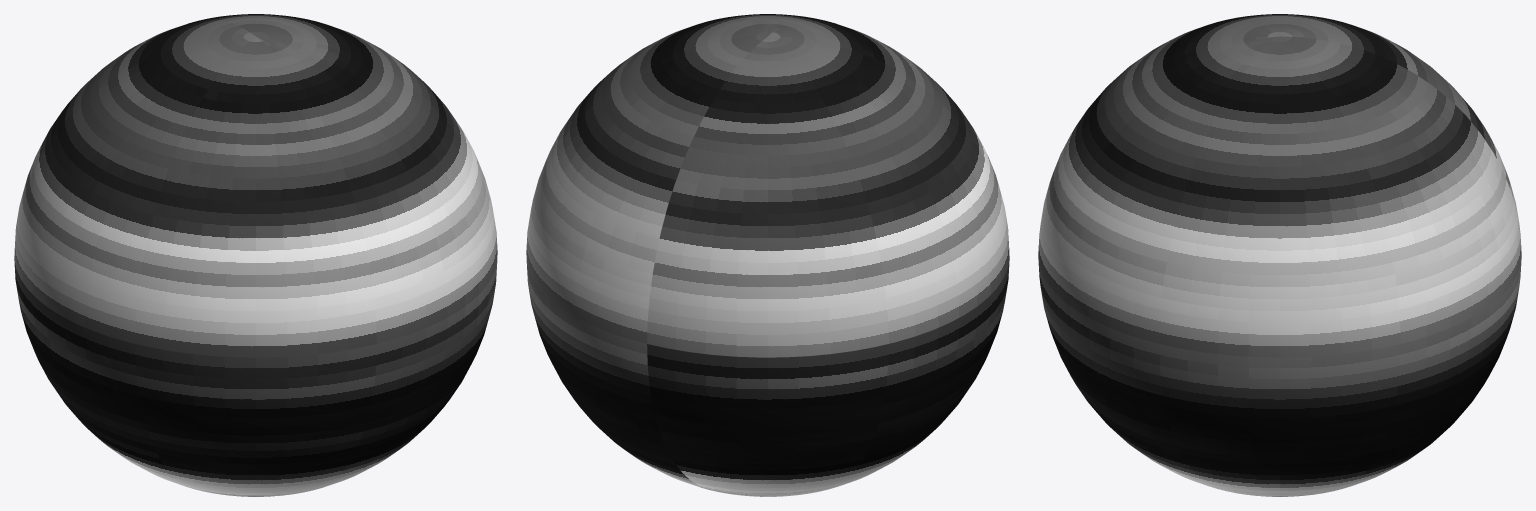
File: earth.obj
3 renders of one model, left to right at view 1: azimuth 30°, elevation 25°; view 2: azimuth 150°, elevation 25°; view 3: azimuth 270°, elevation 25°, orthographic.
Parts seen in each view (by area): view 1: Sphere002; view 2: Sphere002; view 3: Sphere002.
Part boxes in pixels (left/top/right/bottom): Sphere002: left=14, top=14, right=497, bottom=496; Sphere002: left=526, top=14, right=1009, bottom=496; Sphere002: left=1038, top=14, right=1521, bottom=496.
Bounding box in the file's own units: 702 × 702 × 702.
